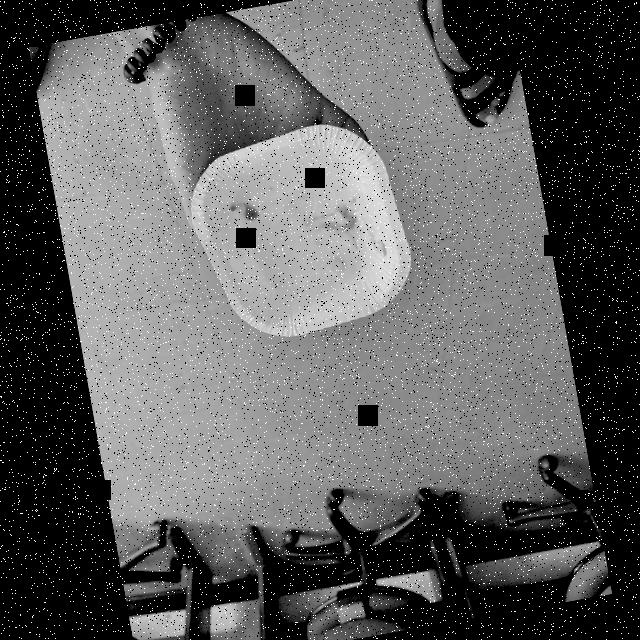cardboard_bowl: (183, 126, 421, 357)
